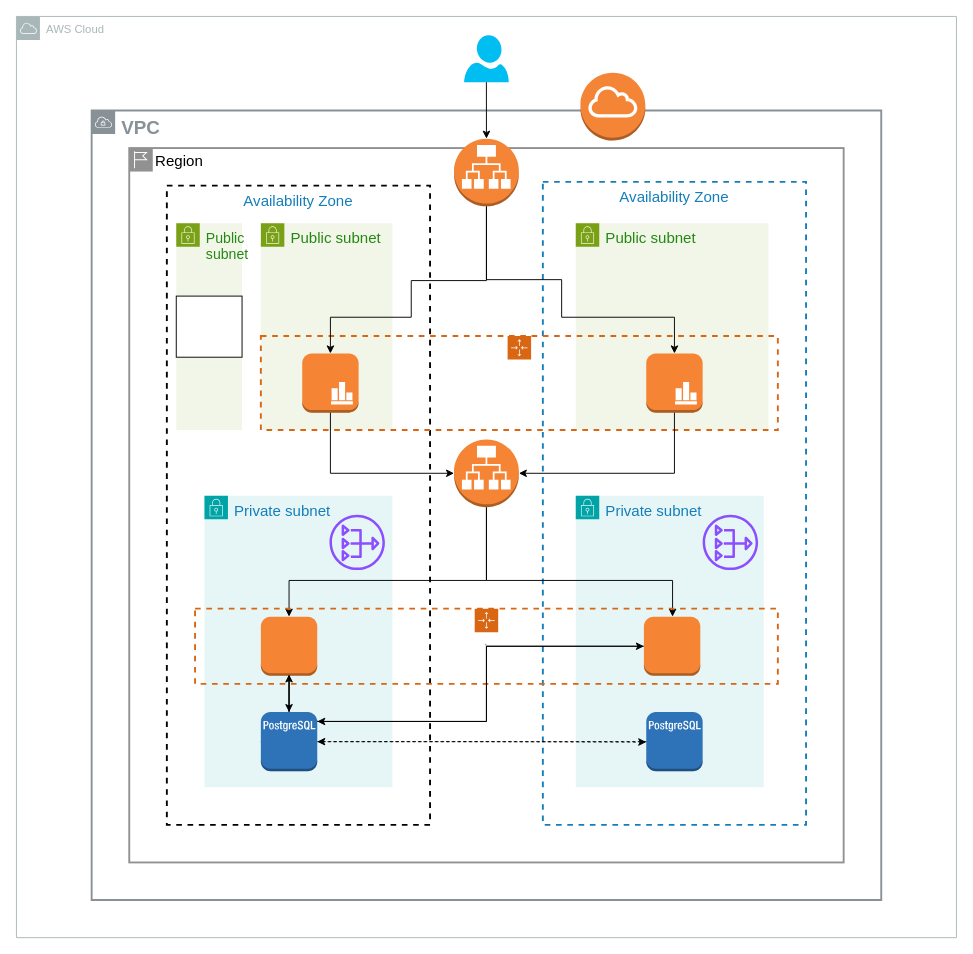
This 973x954 diagram has some shape labels left out. The shapes that lost their labels are listed below. From the top down, each one's centre as x and y in pixels, then its label:
pixel 208 326: bostion jump box
pixel 518 383: Auto Scaling group
